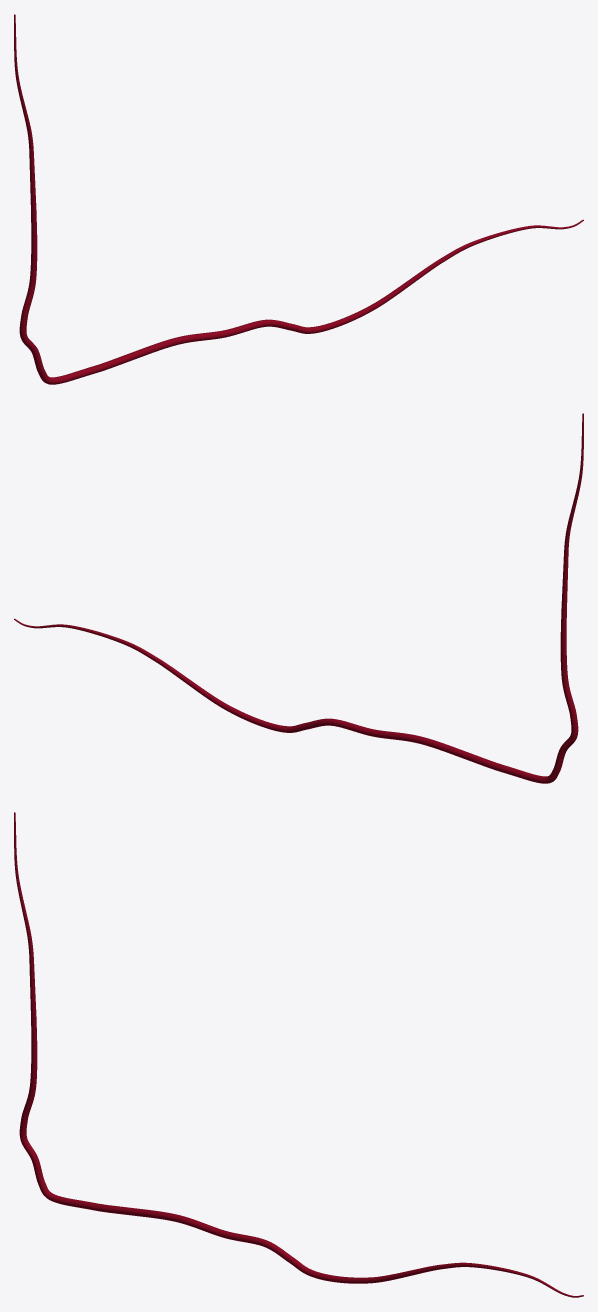
File: Vessel03.fbx
The picture shows the model from 3 angles, top to bottom: view 1: azimuth 30°, elevation 25°; view 2: azimuth 150°, elevation 25°; view 3: azimuth 330°, elevation 25°; orthographic projection.
Parts seen in each view (by area): view 1: root; view 2: root; view 3: root.
Boxes of the visible parts, x1,y1,x2,y2 form: root: [14, 14, 583, 384]; root: [14, 413, 583, 783]; root: [14, 812, 583, 1297].
Bounding box in the file's own units: 2.7 × 1.78 × 0.0309.
